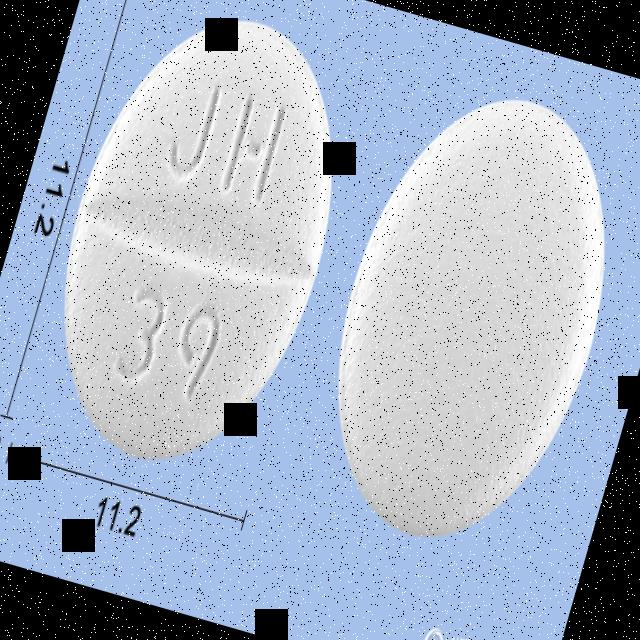Ciflox: (12, 0, 384, 496)
